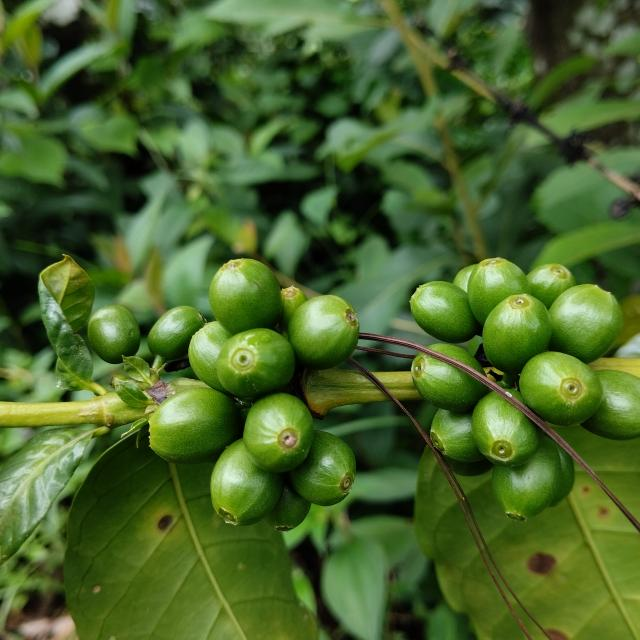green: (148, 388, 239, 464), (210, 440, 283, 527), (520, 352, 604, 426), (550, 284, 624, 364), (493, 439, 562, 522), (243, 393, 314, 473), (209, 258, 282, 335), (484, 294, 553, 375), (216, 328, 295, 398), (288, 295, 359, 370), (472, 392, 542, 467), (289, 431, 356, 507), (411, 353, 488, 412), (410, 281, 482, 343), (468, 257, 531, 326), (582, 370, 640, 441), (147, 306, 206, 361), (188, 321, 232, 394), (87, 305, 140, 364), (431, 409, 486, 463), (265, 484, 311, 532), (528, 264, 577, 309), (550, 442, 576, 508), (429, 344, 485, 374), (444, 456, 494, 477), (453, 264, 478, 292)
